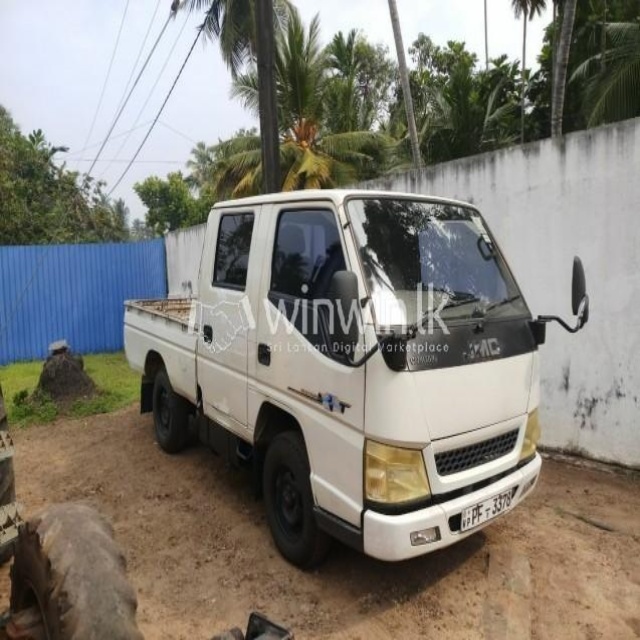Truck: (122, 186, 590, 574)
